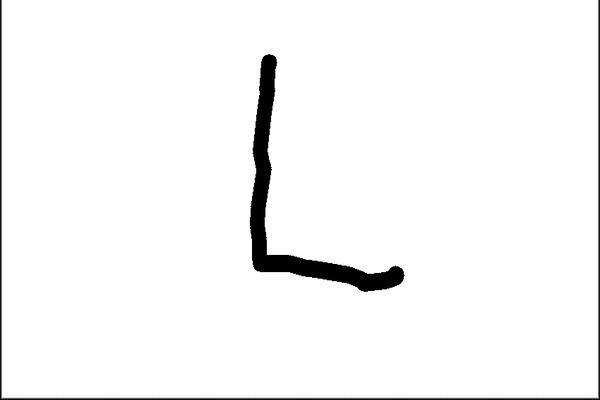L: (243, 47, 410, 299)
